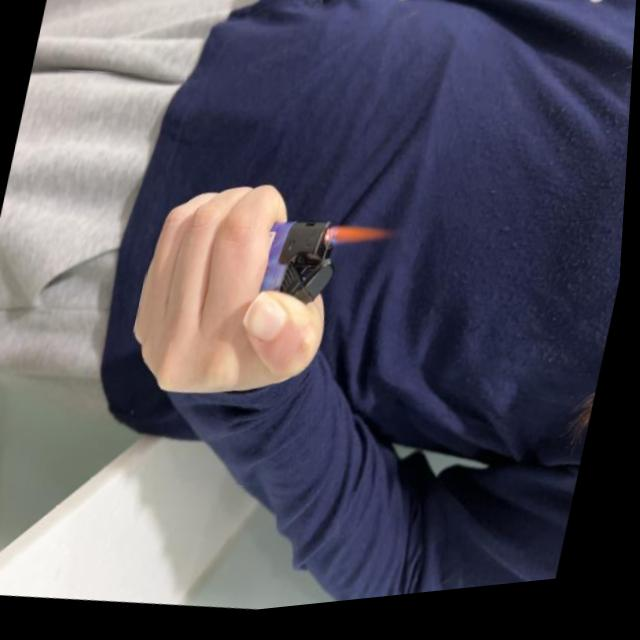Fire: (324, 226, 400, 263)
